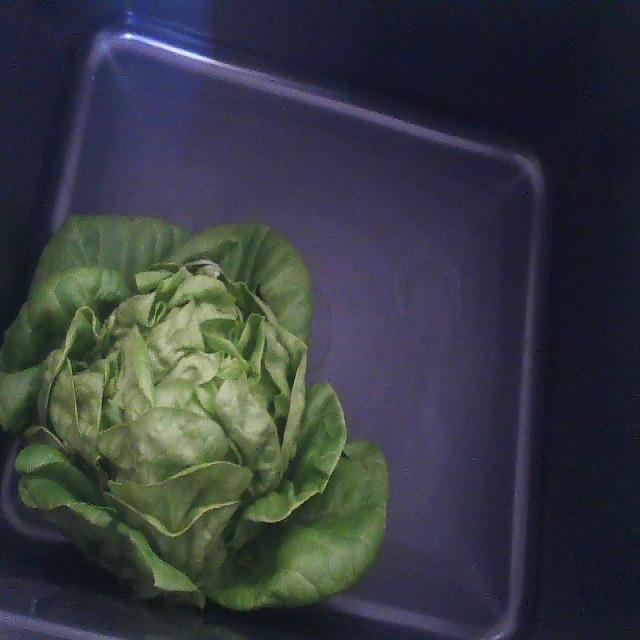lettuce: (0, 216, 388, 608)
